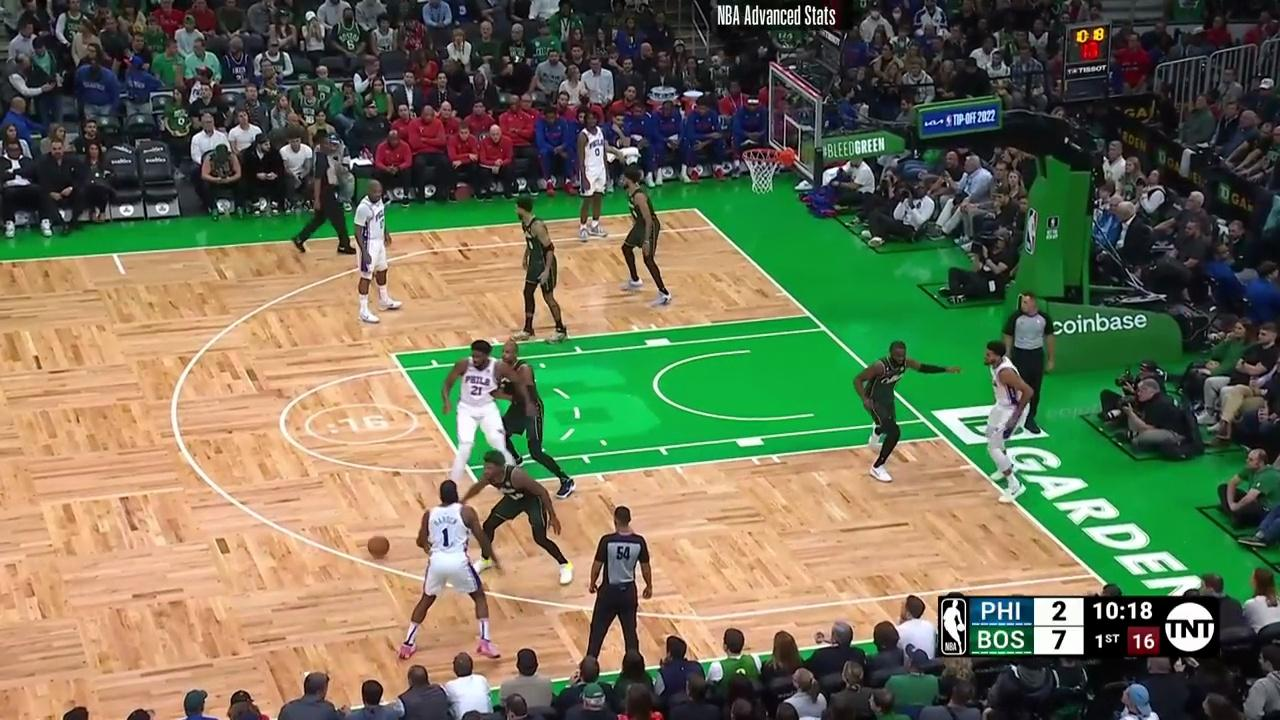Backboard: (768, 64, 820, 190)
Ball: (368, 536, 390, 558)
Basket: (741, 146, 783, 197)
Dribble: (370, 554, 387, 563)
Person: (398, 478, 496, 666), (851, 337, 965, 489), (460, 451, 575, 595), (492, 338, 577, 500), (434, 339, 511, 473), (507, 192, 571, 352), (617, 164, 677, 309), (353, 177, 409, 327), (572, 109, 621, 244)
Referee: (583, 500, 653, 669), (288, 130, 357, 257), (1001, 290, 1056, 442)
Shot Clock: (1062, 27, 1112, 91)
